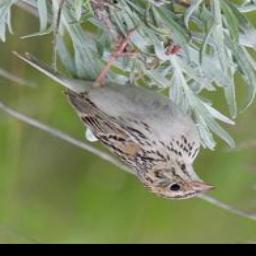Sparrow: (9, 25, 217, 202)
